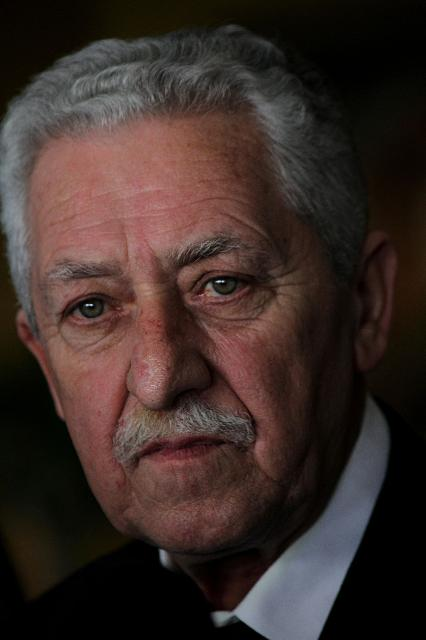crows_feet: (258, 262, 298, 296)
forehead: (221, 206, 268, 242), (192, 186, 248, 214)
frown_line: (115, 226, 135, 266)
gummy_smile: (204, 348, 244, 406), (104, 372, 138, 436)
sad_smile: (253, 458, 286, 488)
